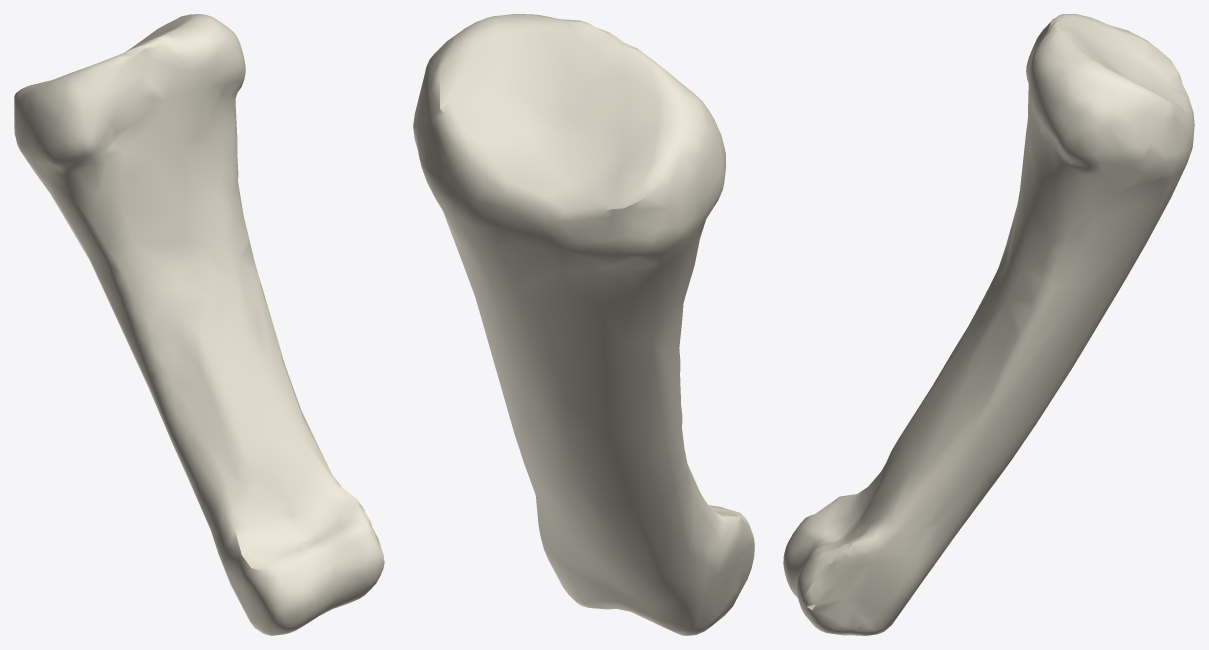
File: fma24454_mm1910.glb
3 renders of one model, left to right at view 1: azimuth 30°, elevation 25°; view 2: azimuth 150°, elevation 25°; view 3: azimuth 270°, elevation 25°, orthographic. The views are drawn at different scales.
Visible parts, largest first — view 1: FMA24454_MM1910; view 2: FMA24454_MM1910; view 3: FMA24454_MM1910.
Part boxes in pixels (left/top/right/bottom): FMA24454_MM1910: left=14, top=14, right=384, bottom=635; FMA24454_MM1910: left=413, top=14, right=754, bottom=635; FMA24454_MM1910: left=783, top=14, right=1194, bottom=635.
Size of the model in its own units: 0.0145 by 0.0328 by 0.0212.
